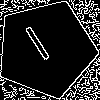I: (21, 24, 59, 70)
